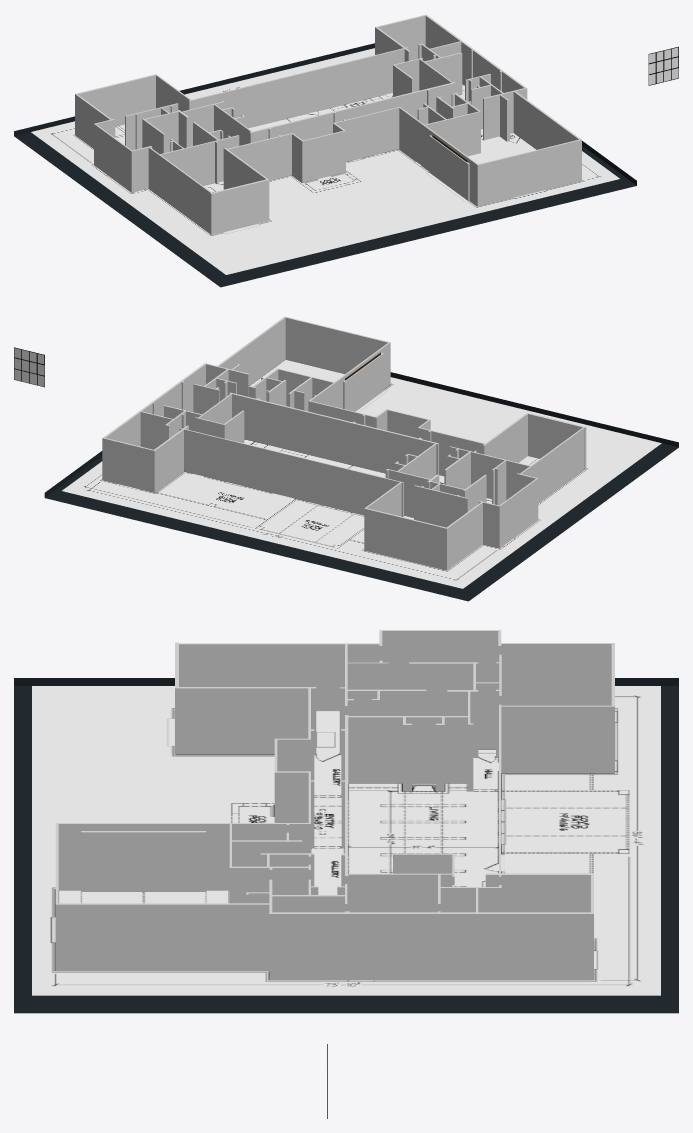
The picture shows the model from 3 angles, top to bottom: view 1: azimuth 30°, elevation 25°; view 2: azimuth 150°, elevation 25°; view 3: azimuth 270°, elevation 25°; orthographic projection. The views are drawn at different scales.
Visible parts, largest first — view 1: Plane.001, _3737-Layout, PLATE, Plane.003, Plane.002, Plane.004; view 2: Plane.001, _3737-Layout, PLATE, Plane.003, Plane.002, Plane.004; view 3: Plane.001, _3737-Layout, PLATE, Plane.002, Plane.003.
Boxes of the visible parts, <box> form: Plane.001: <box>75,14,581,235</box>; _3737-Layout: <box>31,48,619,274</box>; PLATE: <box>14,43,636,287</box>; Plane.003: <box>97,19,580,234</box>; Plane.002: <box>429,135,469,200</box>; Plane.004: <box>648,46,678,85</box>; Plane.001: <box>102,316,586,570</box>; _3737-Layout: <box>62,359,661,588</box>; PLATE: <box>44,372,678,601</box>; Plane.003: <box>117,318,581,569</box>; Plane.002: <box>343,352,384,411</box>; Plane.004: <box>14,347,44,387</box>; Plane.001: <box>55,630,614,980</box>; _3737-Layout: <box>32,686,660,995</box>; PLATE: <box>14,678,678,1013</box>; Plane.002: <box>81,831,206,891</box>; Plane.003: <box>82,631,489,979</box>.
Size of the model in its own units: 21.12 by 1.7 by 13.6.
5 materials, 1 textured.
